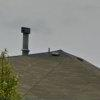Chimney: (18, 19, 31, 58)
